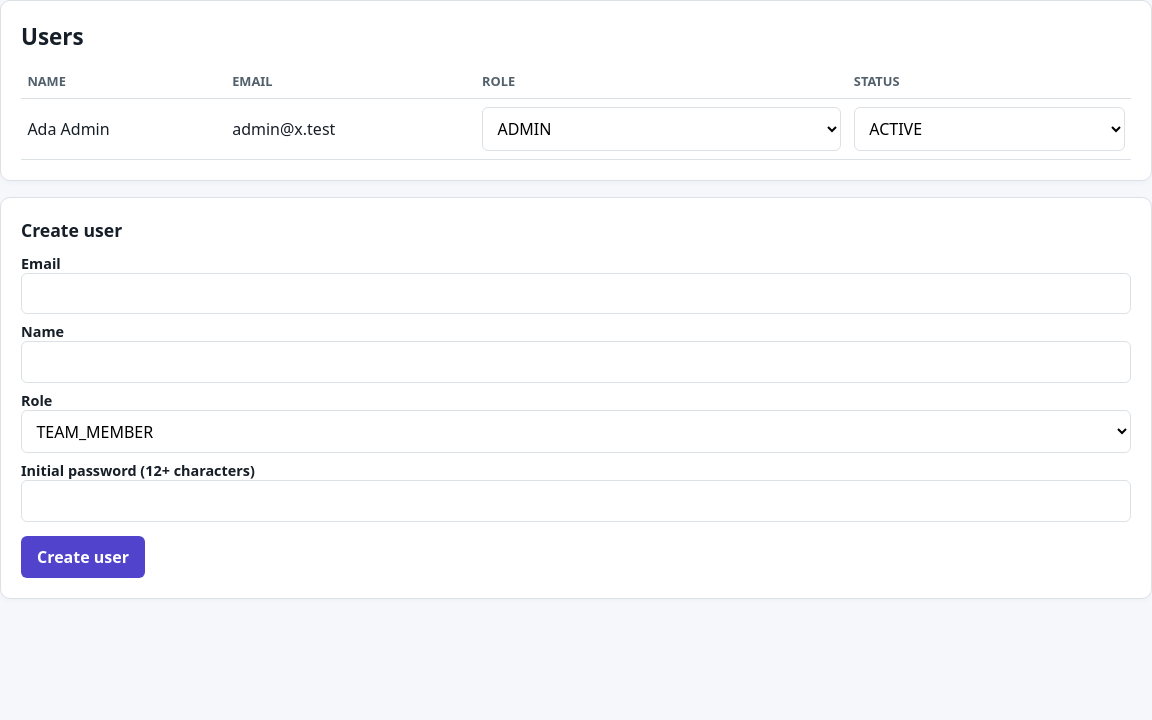
UsersAdminPage › maps server field errors onto the form
Expected: the text "admin@x.test" is shown, [226, 98, 476, 159]
What coordinates should you click on to do the following:
click the button "Create user"
I would click on:
 (83, 557)
Its box is [21, 536, 145, 578].
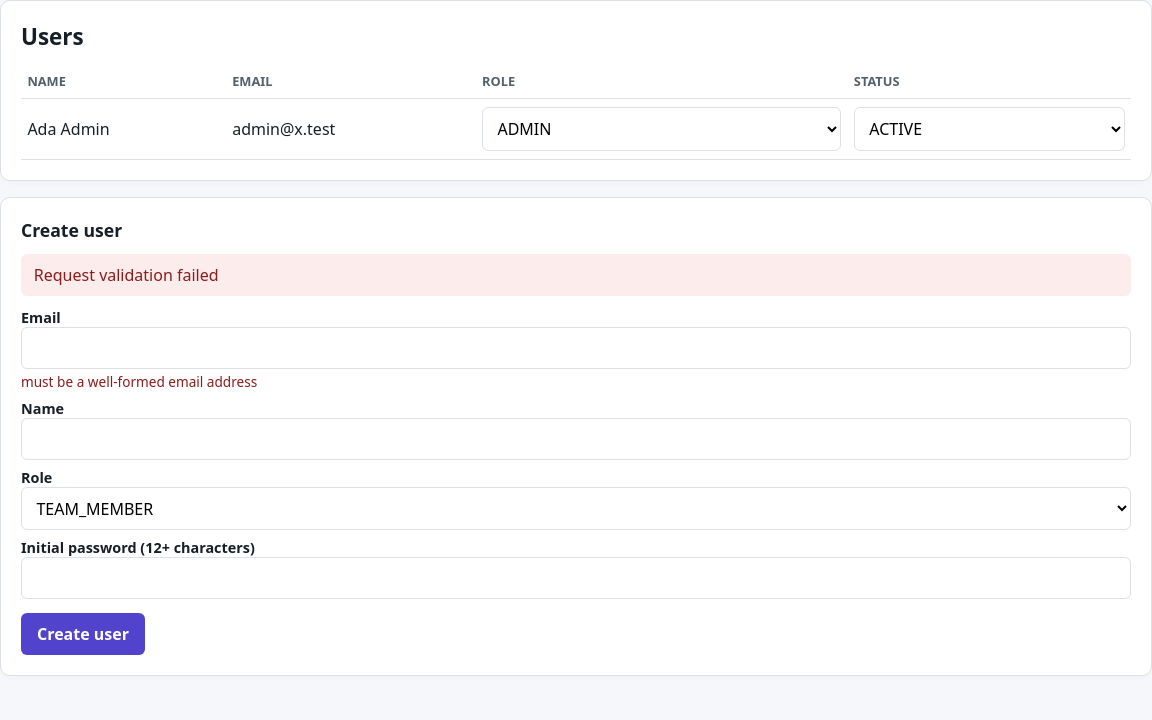
Result: the text "must be a well-formed email address" is shown at [21, 372, 257, 391]
Result: the text "Request validation failed" is shown at [21, 254, 1131, 296]
